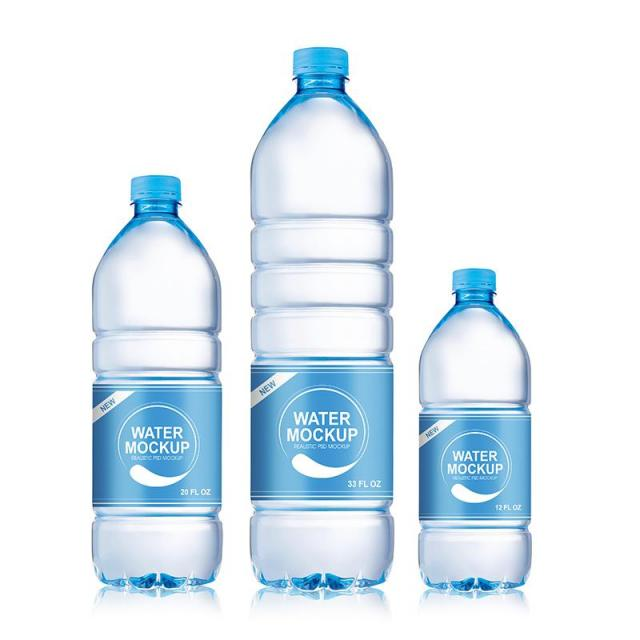bottle: (242, 58, 398, 616), (83, 158, 226, 620), (411, 261, 549, 612)
